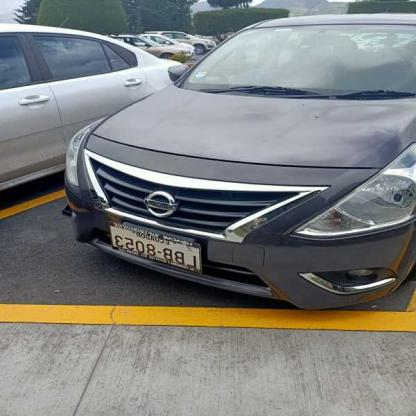Placa: (104, 220, 203, 271)
